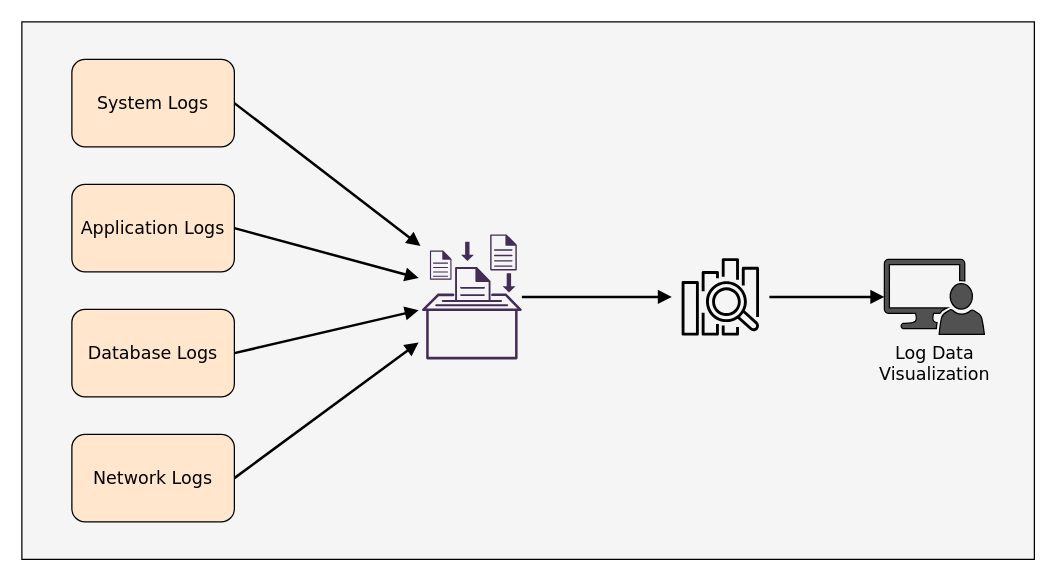
Image size: 1056x581. Some labels were removed from this diagram. Here are the shapes that lost their labels. From the top down, the box of each, then its label:
(421, 233, 522, 359): Log Integration
(671, 247, 769, 346): Log Store Search Engine
